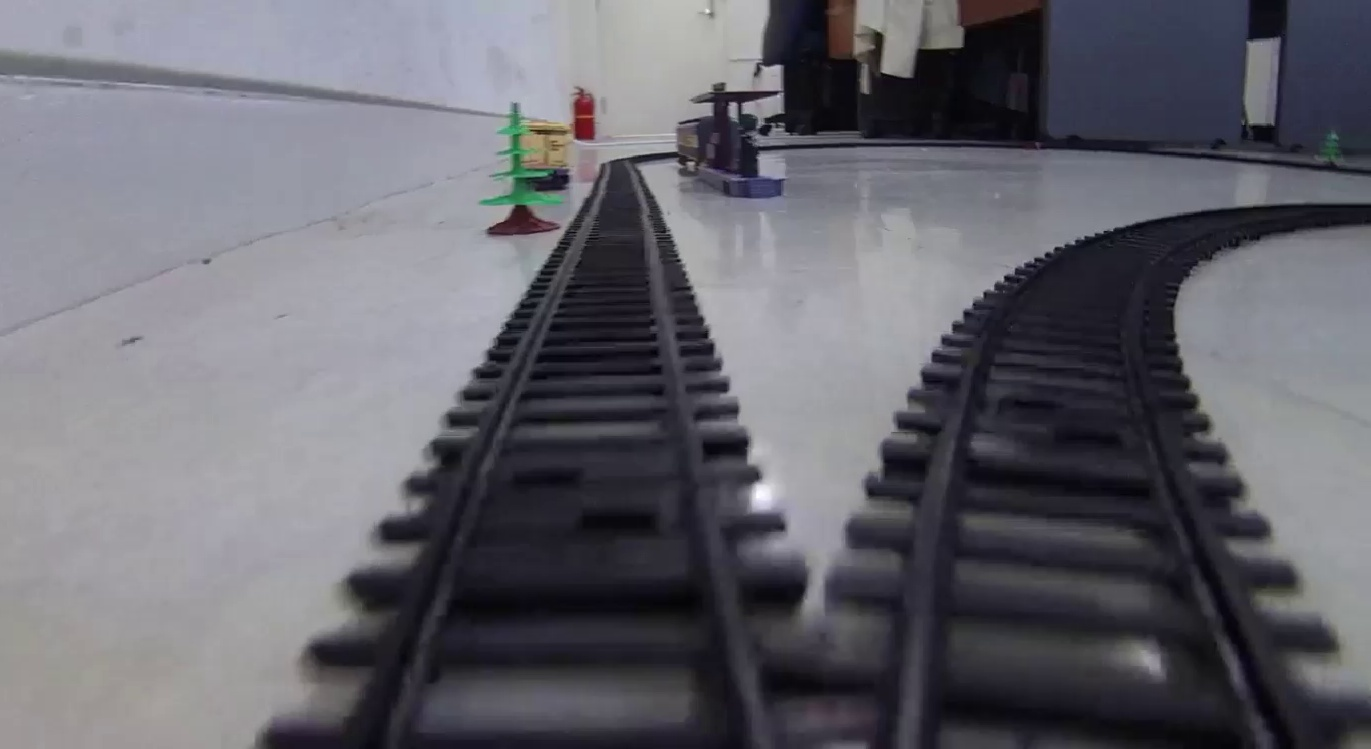tree: (479, 101, 563, 232)
